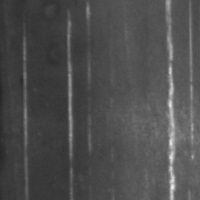scratches: (162, 1, 180, 200), (61, 15, 79, 200), (19, 23, 32, 200)
